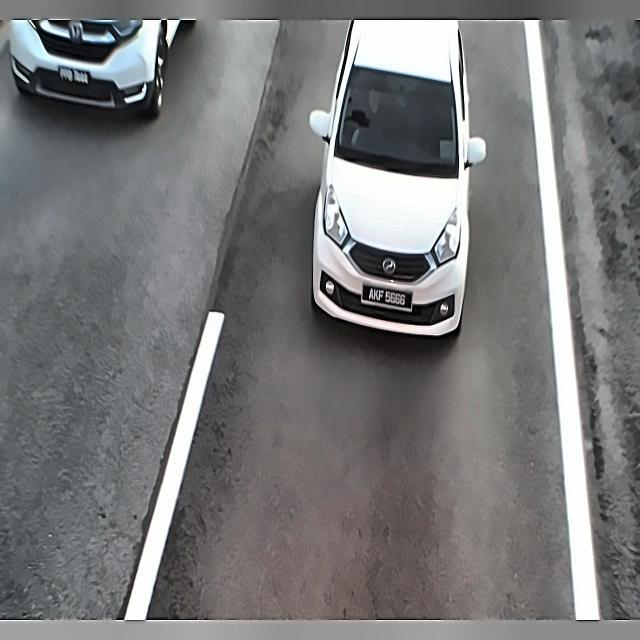car: (363, 282, 417, 318), (47, 65, 96, 87)
